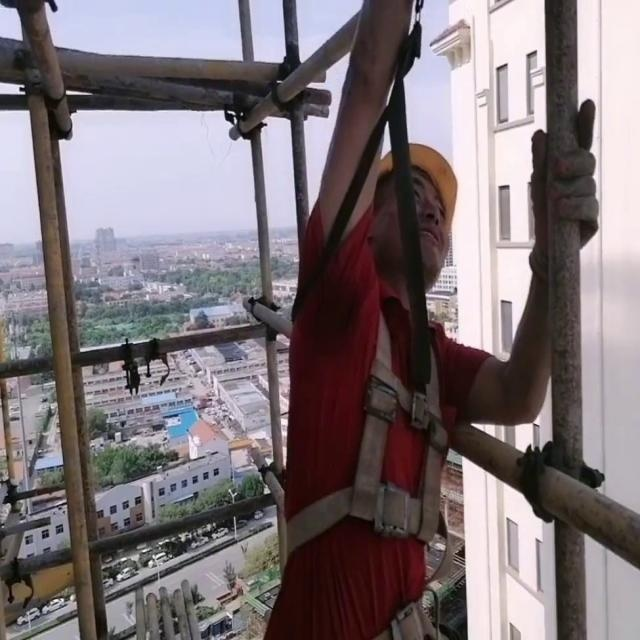Arnes_seguridad: (274, 285, 454, 569)
